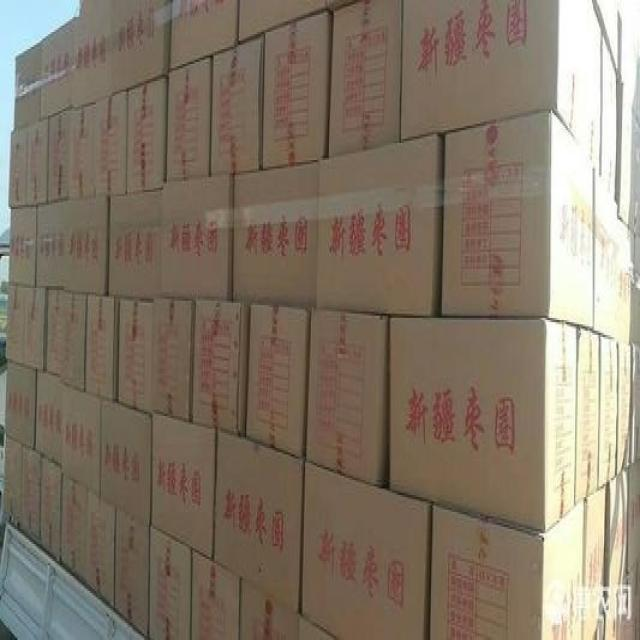box: (390, 318, 576, 533), (401, 0, 602, 175), (442, 111, 596, 331), (303, 459, 429, 640), (317, 132, 438, 316), (430, 499, 584, 640), (214, 429, 304, 610), (305, 309, 388, 486), (233, 158, 319, 307), (329, 0, 402, 158), (264, 13, 327, 171), (246, 303, 307, 459), (152, 412, 215, 559), (162, 175, 235, 299), (195, 299, 250, 437), (210, 34, 262, 173), (102, 401, 151, 529), (109, 188, 163, 299), (166, 55, 210, 181), (152, 299, 196, 422), (115, 0, 172, 92), (171, 0, 239, 73), (127, 75, 168, 196), (149, 527, 192, 640), (115, 506, 150, 640), (61, 196, 108, 294), (191, 550, 240, 640), (64, 384, 101, 499), (605, 465, 629, 640), (575, 329, 599, 503), (77, 0, 115, 105), (119, 299, 154, 412), (41, 17, 79, 119), (593, 171, 616, 339), (239, 578, 301, 640), (239, 0, 327, 43), (581, 484, 605, 640), (616, 81, 639, 235), (96, 90, 127, 196), (88, 493, 115, 610), (86, 297, 116, 401), (61, 471, 88, 585), (61, 286, 89, 393), (36, 196, 68, 288), (598, 335, 616, 491), (6, 358, 36, 448), (616, 201, 635, 343), (68, 100, 96, 196), (36, 371, 64, 467), (602, 28, 617, 198), (14, 43, 41, 132), (627, 463, 640, 640), (47, 107, 71, 201), (20, 444, 42, 544), (10, 207, 37, 288), (616, 341, 632, 476), (41, 457, 61, 563), (25, 117, 49, 205), (594, 0, 618, 81), (25, 288, 46, 373), (4, 433, 22, 529), (621, 15, 638, 109), (6, 286, 26, 365), (44, 288, 62, 375), (10, 128, 26, 207), (630, 343, 639, 467), (299, 614, 333, 640)
